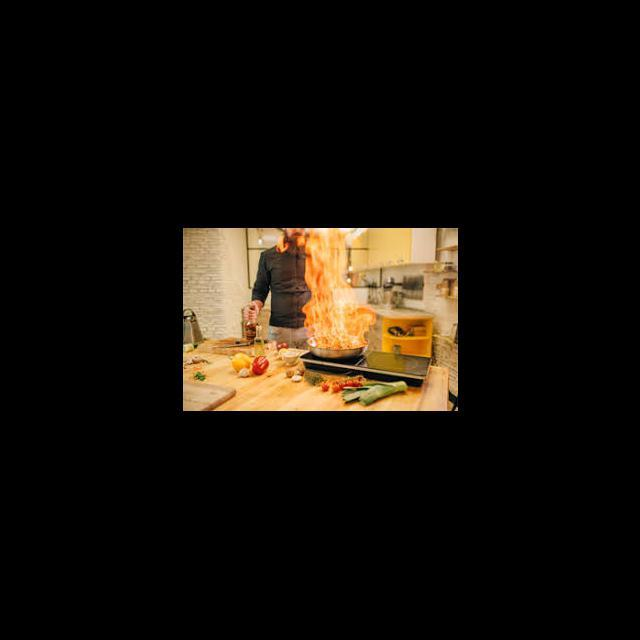Fire: (292, 229, 377, 362)
